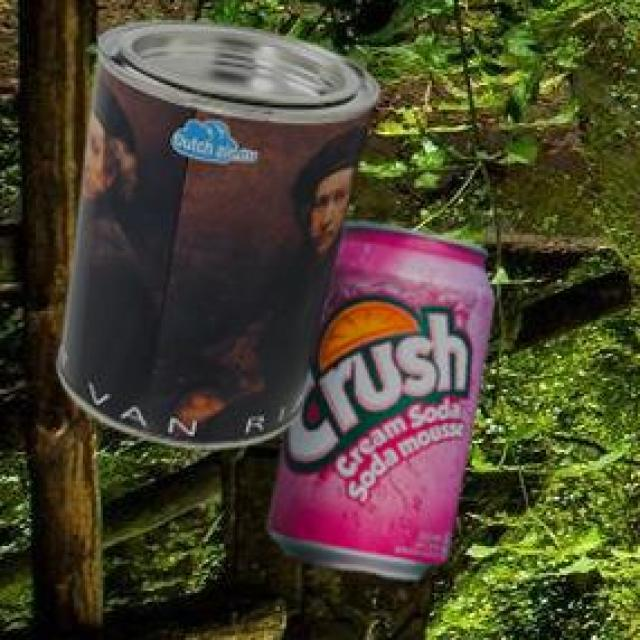logam: (62, 23, 384, 451), (272, 225, 498, 583)
